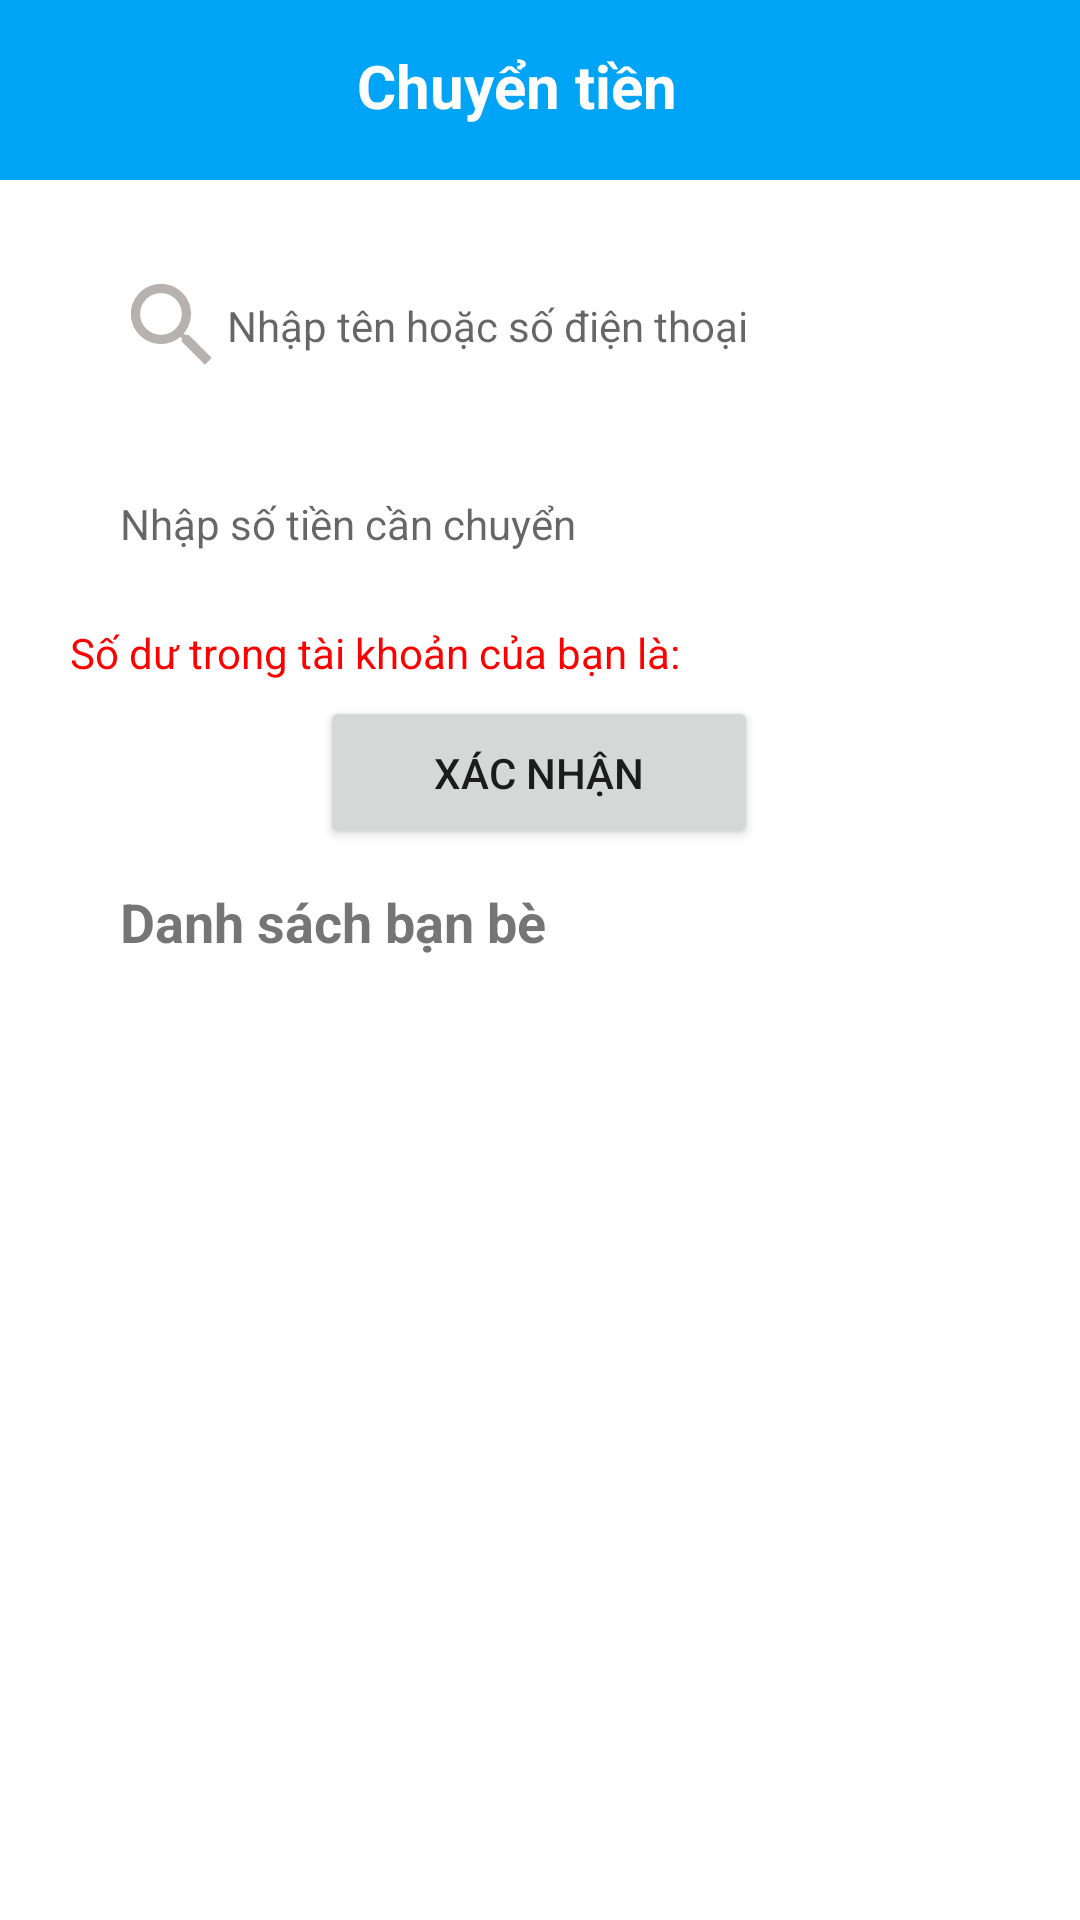

Named icons in this screenshot (1080w x 1920h) and their centers, [x,y]:
search: [171,324]
